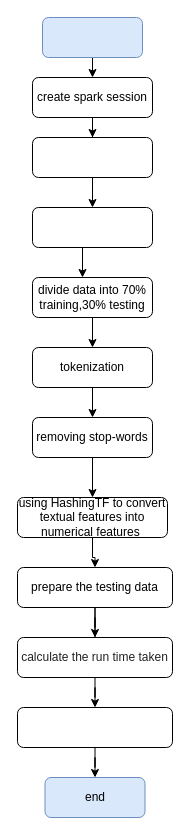
Image size: 190x835. Some labels were removed from this diagram. The centre of each missing label's shape, as x and y in pixels:
evaluate using accuracy: (94,727)
read data file: (92,157)
select the related features: (92,227)
start: (92,37)
